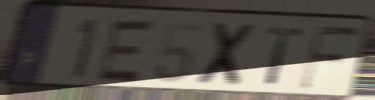1: (71, 17, 100, 82)
5: (154, 20, 204, 85)
E: (93, 17, 159, 85)
F: (296, 22, 362, 93)
T: (264, 25, 306, 88)
X: (194, 19, 261, 90)
